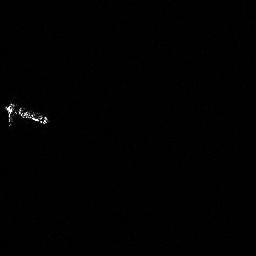ship: (3, 98, 50, 129)
